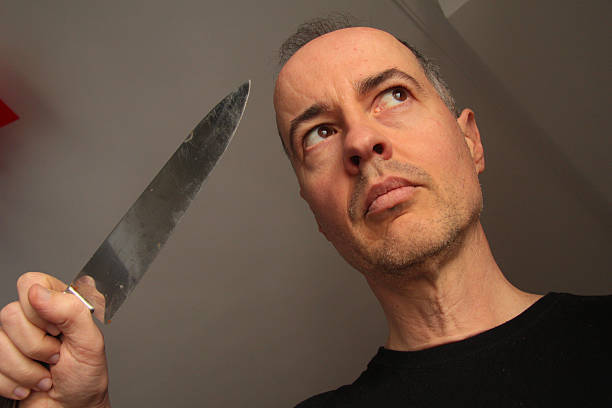knife: (0, 77, 256, 408)
